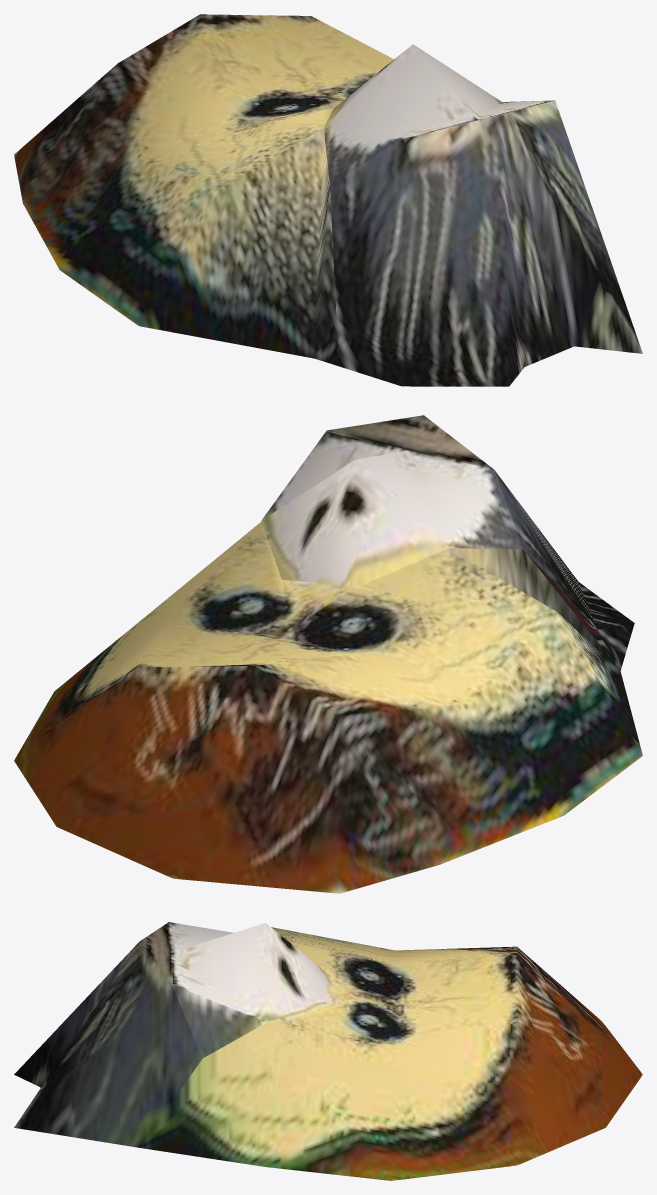
The model's file is monkey_model.fbx.
3 renders of one model, top to bottom at view 1: azimuth 30°, elevation 25°; view 2: azimuth 150°, elevation 25°; view 3: azimuth 270°, elevation 25°, orthographic. The views are drawn at different scales.
Visible parts, largest first — view 1: MonkeyFace_mesh01, LowerJaw_mesh01, UpperJaw_mesh01; view 2: MonkeyFace_mesh01, UpperJaw_mesh01, LowerJaw_mesh01; view 3: MonkeyFace_mesh01, LowerJaw_mesh01, UpperJaw_mesh01.
Part boxes in pixels (x1,y1,x2,y2): MonkeyFace_mesh01: (14, 14, 393, 358); LowerJaw_mesh01: (315, 100, 642, 386); UpperJaw_mesh01: (323, 44, 554, 185); MonkeyFace_mesh01: (14, 521, 642, 893); UpperJaw_mesh01: (261, 430, 522, 588); LowerJaw_mesh01: (327, 415, 634, 670); MonkeyFace_mesh01: (140, 927, 642, 1180); LowerJaw_mesh01: (14, 922, 202, 1147); UpperJaw_mesh01: (169, 922, 329, 1058).
Bounding box in the file's own units: 305 × 129 × 420.
